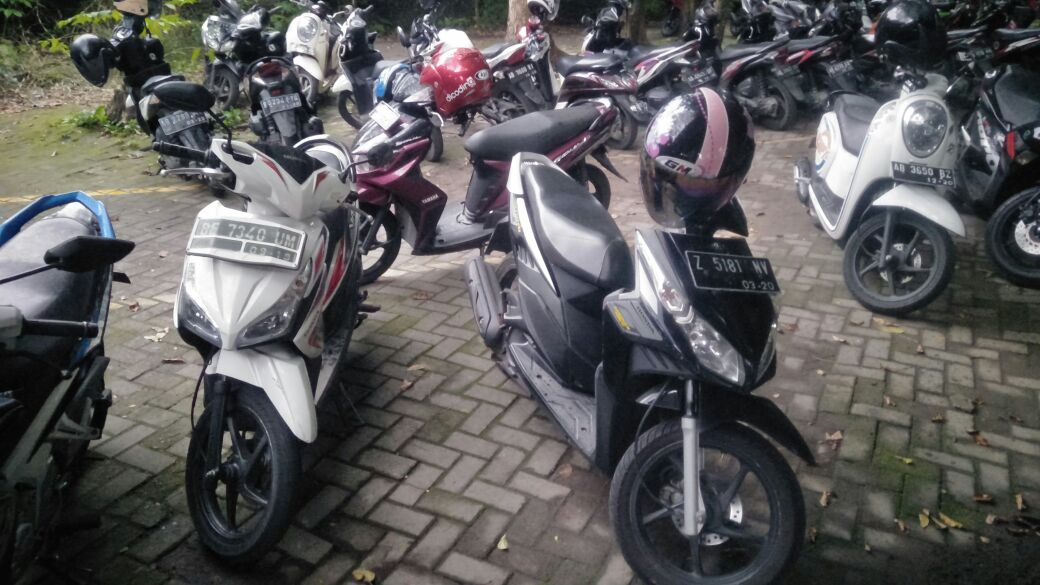plate: (191, 217, 301, 264), (685, 250, 781, 294), (892, 164, 957, 184), (158, 110, 209, 132), (259, 94, 302, 111)
